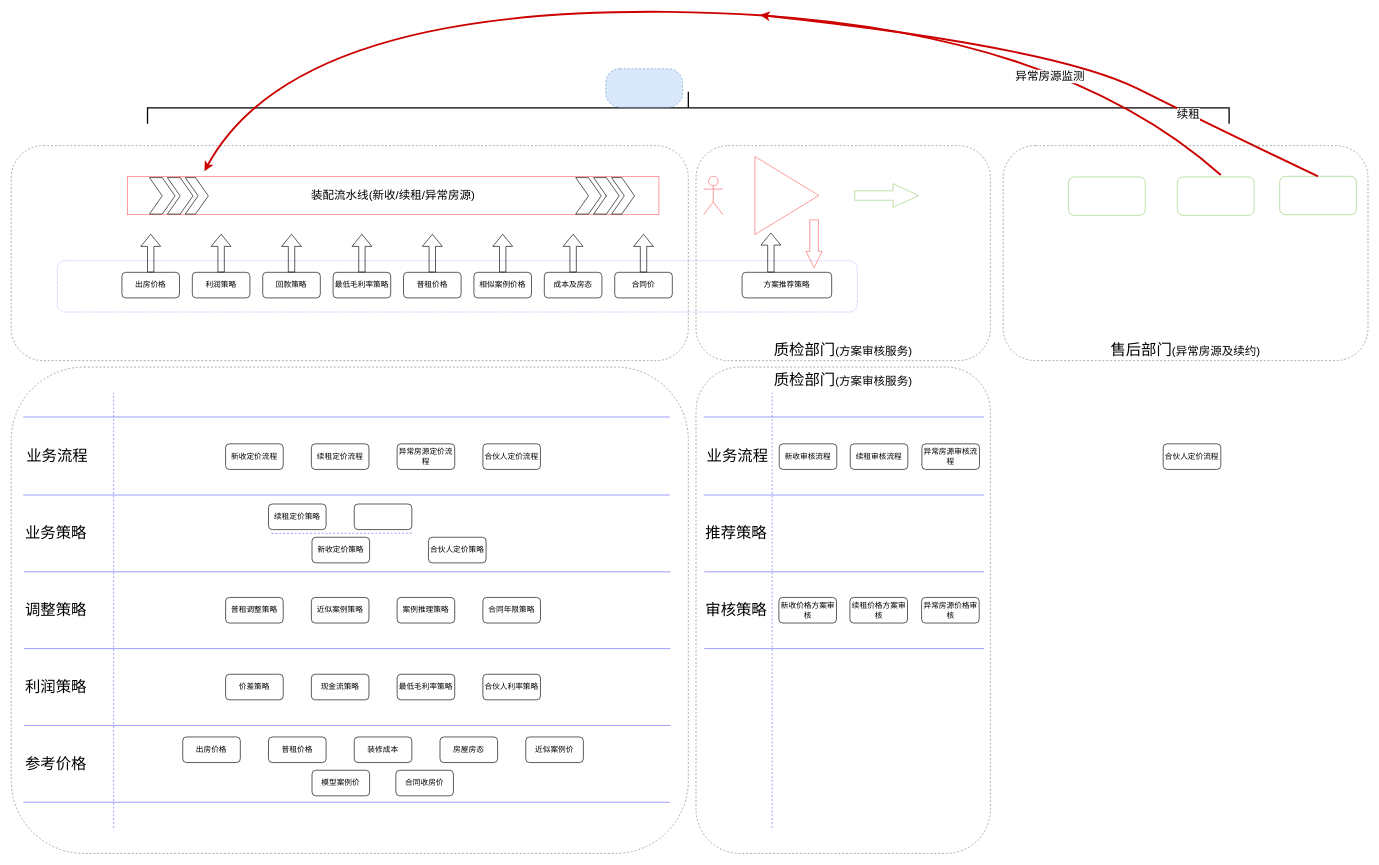
Some shapes in this 1379 by 865 pixel diagram are drawn without their labels. Here are the shapes that lost their labels. From the top down, the box of each, then its label:
(605, 68, 683, 107): 全链路全生命周期利润检测与监控
(703, 176, 723, 215): 销售
(754, 156, 819, 235): 产品质检
(854, 183, 919, 207): 审核通过
(1068, 176, 1145, 215): 签订合约
(1177, 176, 1254, 215): 出租运营
(1279, 176, 1356, 215): 解约
(11, 145, 688, 361): 生产工厂 (定价服务)
(805, 219, 822, 268): 方案审核失败
(57, 260, 857, 312): 加工车间
(354, 503, 412, 530): 异常房源定价策略
(11, 366, 688, 853): 生产工厂 (定价服务业务架构)
